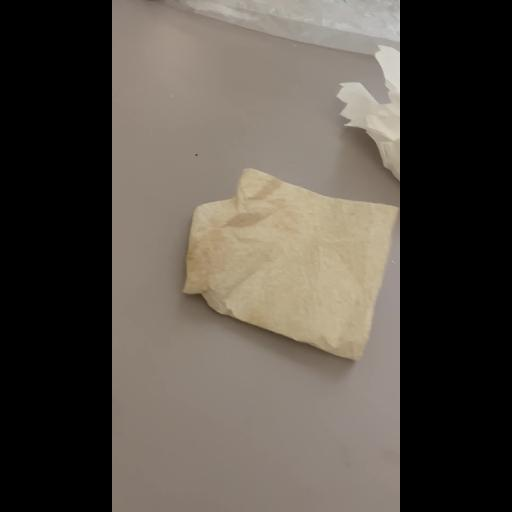napkin: (180, 166, 398, 358), (337, 44, 399, 190)
